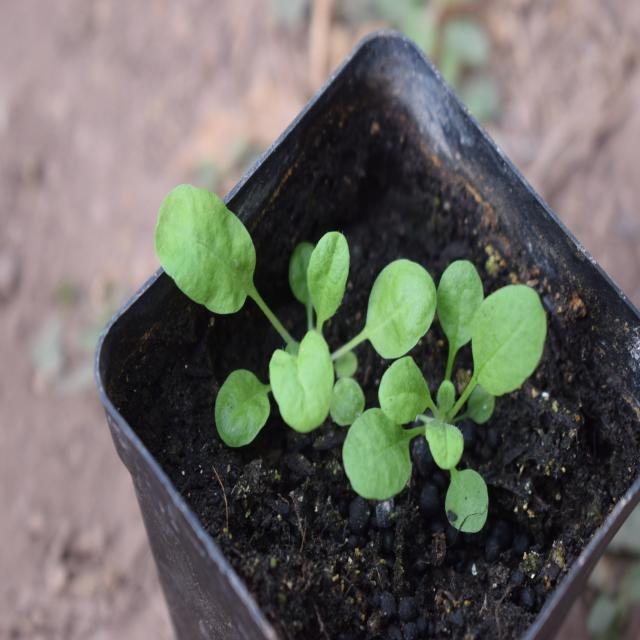Shepherd_Purse: (157, 178, 379, 473), (353, 242, 562, 528)
